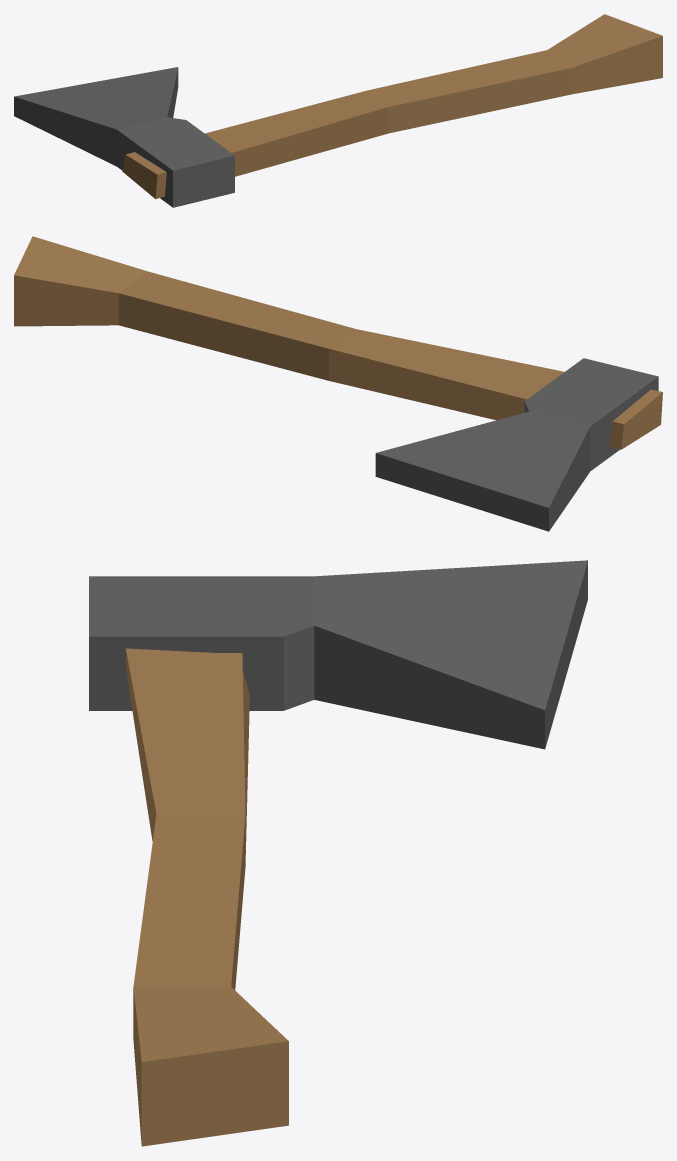
File: axe_01.fbx
3 views of the same model, one above another, from view 1: azimuth 30°, elevation 25°; view 2: azimuth 150°, elevation 25°; view 3: azimuth 270°, elevation 25° (orthographic). The views are drawn at different scales.
Visible parts, largest first — view 1: axe_01; view 2: axe_01; view 3: axe_01.
Boxes of the visible parts, box(x1,y1,x2,y2) form: axe_01: box(14, 14, 662, 207); axe_01: box(14, 236, 662, 531); axe_01: box(89, 560, 587, 1146).
Size of the model in its own units: 94.83 by 7.11 by 38.14.
